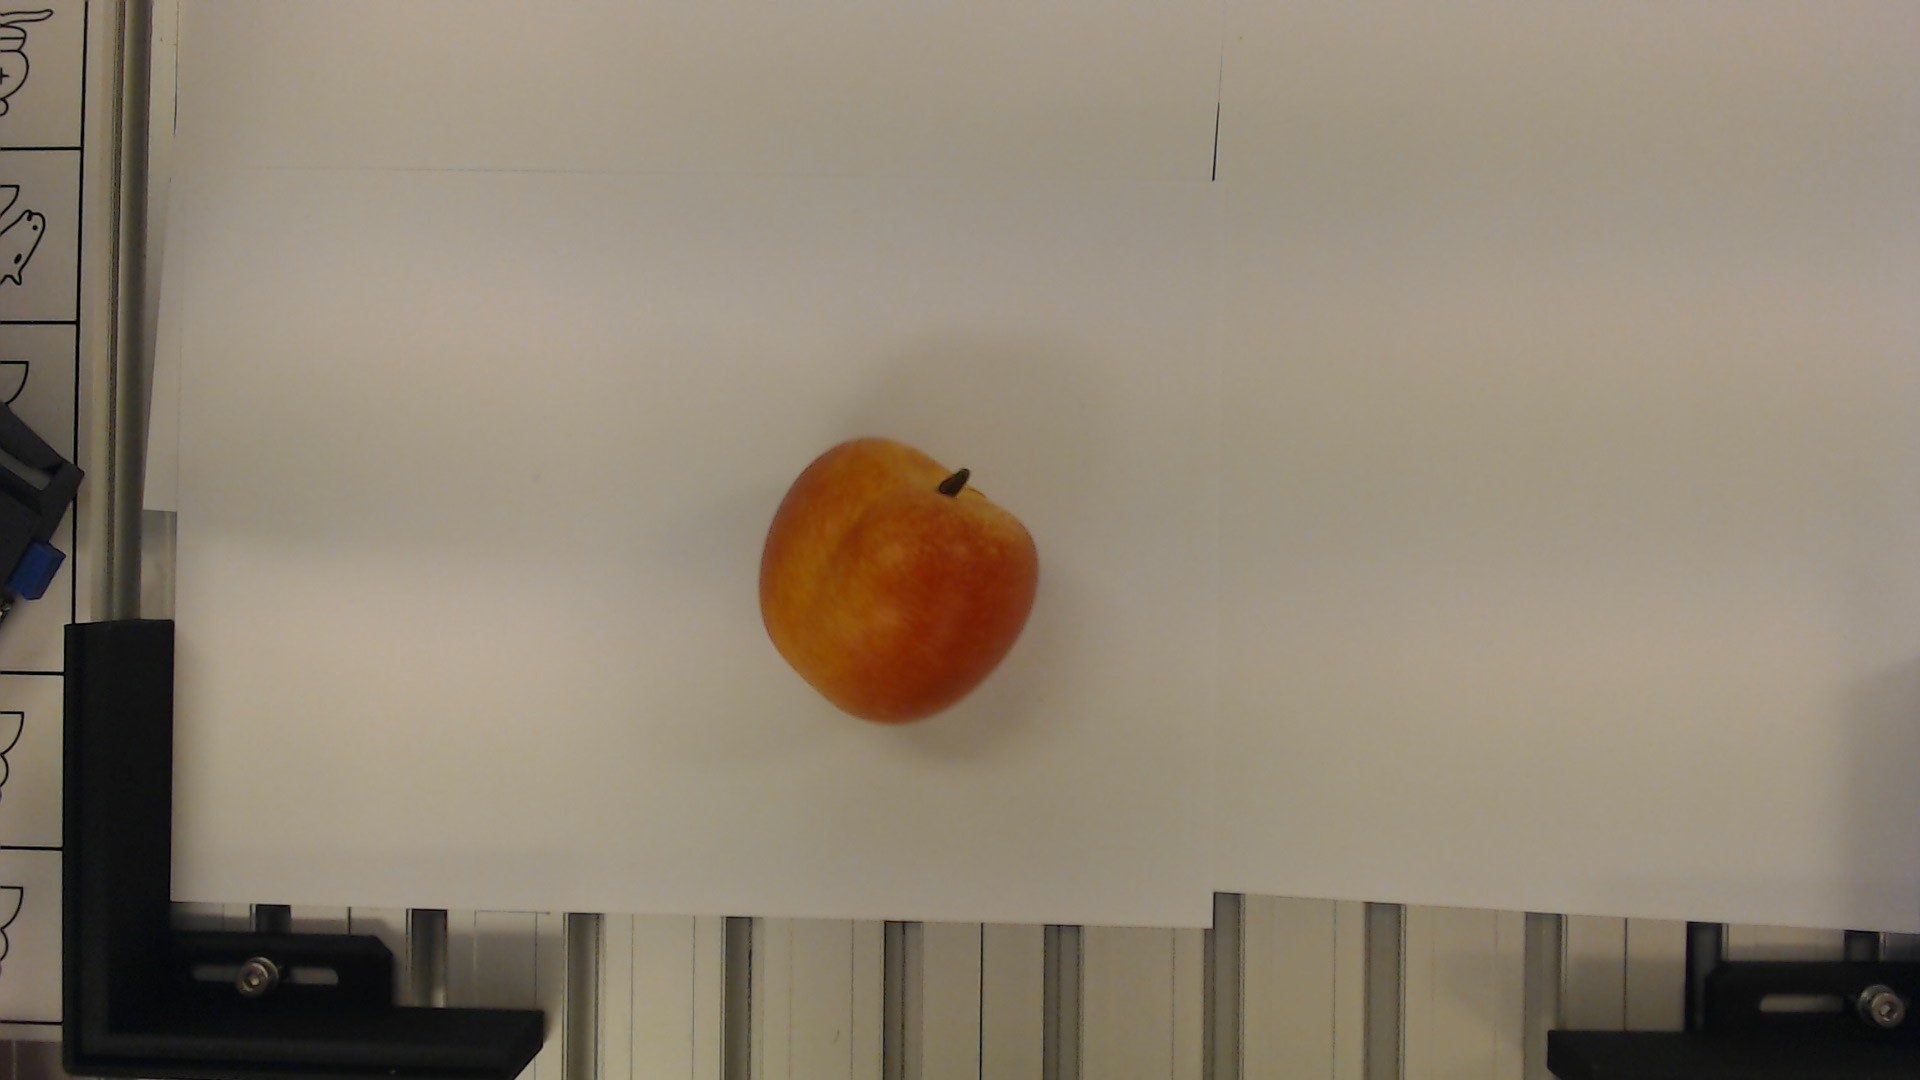Peach: (738, 430, 1044, 728)
